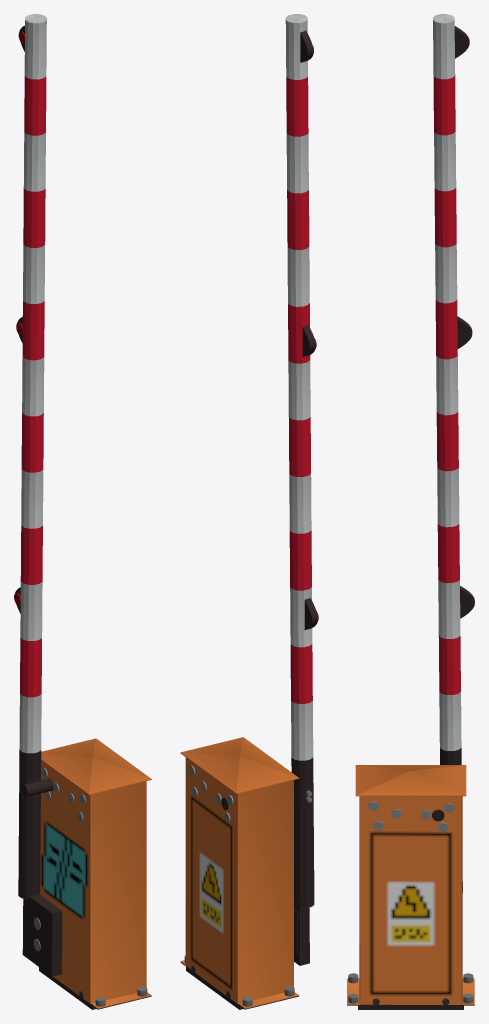
Rendered from rhr-95_3m_prawo.obj.
3 views of the same model, side by side, from view 1: azimuth 30°, elevation 25°; view 2: azimuth 210°, elevation 25°; view 3: azimuth 270°, elevation 25° (orthographic).
Visible parts, largest first — view 1: cuboid, drag; view 2: cuboid, drag; view 3: cuboid, drag.
Boxes of the visible parts, box(x1,y1,x2,y2) form: cuboid: box(39, 738, 151, 1009); drag: box(15, 14, 62, 976); cuboid: box(180, 737, 299, 1009); drag: box(221, 14, 317, 965); cuboid: box(347, 765, 474, 1009); drag: box(432, 14, 474, 892).
Bounding box in the file's own units: 0.3991 × 4.28 × 0.5159.
1 material, 1 textured.
